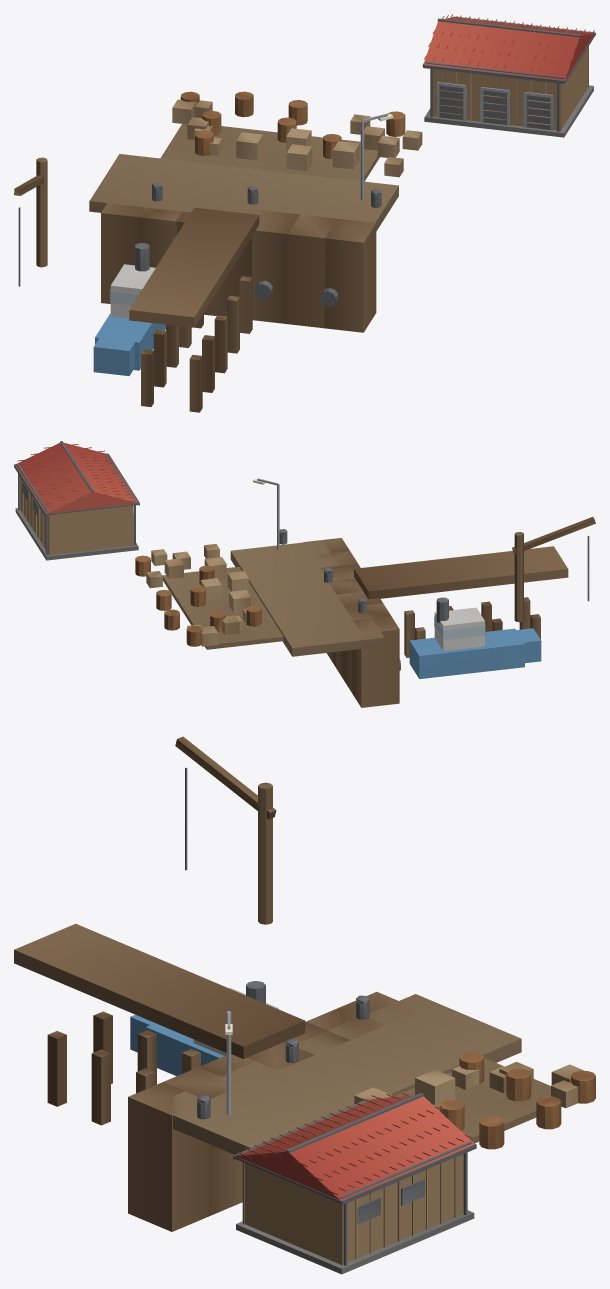
The model's file is Port_P1.fbx.
3 views of the same model, one above another, from view 1: azimuth 30°, elevation 25°; view 2: azimuth 150°, elevation 25°; view 3: azimuth 270°, elevation 25° (orthographic). The views are drawn at different scales.
Visible parts, largest first — view 1: Port.QuayWall, Port.Apron, Port.Shed, Port.Pier0, Port.Crates, Port.Boat, Port.Derrick, Port.Lamp0; view 2: Port.Apron, Port.Shed, Port.Pier0, Port.QuayWall, Port.Boat, Port.Crates, Port.Derrick; view 3: Port.Shed, Port.Apron, Port.Pier0, Port.QuayWall, Port.Crates, Port.Derrick, Port.Boat.
Part boxes in pixels (x1,y1,x2,y2): Port.QuayWall: (101, 193, 376, 332); Port.Apron: (89, 124, 398, 231); Port.Shed: (422, 14, 595, 137); Port.Pier0: (129, 207, 259, 412); Port.Crates: (172, 91, 422, 177); Port.Boat: (93, 243, 165, 376); Port.Derrick: (14, 157, 47, 286); Port.Lamp0: (360, 113, 393, 200); Port.Apron: (162, 540, 384, 656); Port.Shed: (14, 441, 139, 560); Port.Pier0: (354, 546, 568, 657); Port.QuayWall: (303, 538, 400, 707); Port.Boat: (409, 597, 541, 678); Port.Crates: (135, 544, 261, 646); Port.Derrick: (512, 517, 595, 622); Port.Shed: (233, 1092, 476, 1274); Port.Apron: (171, 994, 550, 1154); Port.Pier0: (14, 923, 305, 1125); Port.QuayWall: (128, 992, 420, 1231); Port.Crates: (354, 1052, 595, 1149); Port.Derrick: (175, 736, 276, 924); Port.Boat: (130, 981, 278, 1076).
Bounding box in the file's own units: 7705 × 2495 × 4661.
